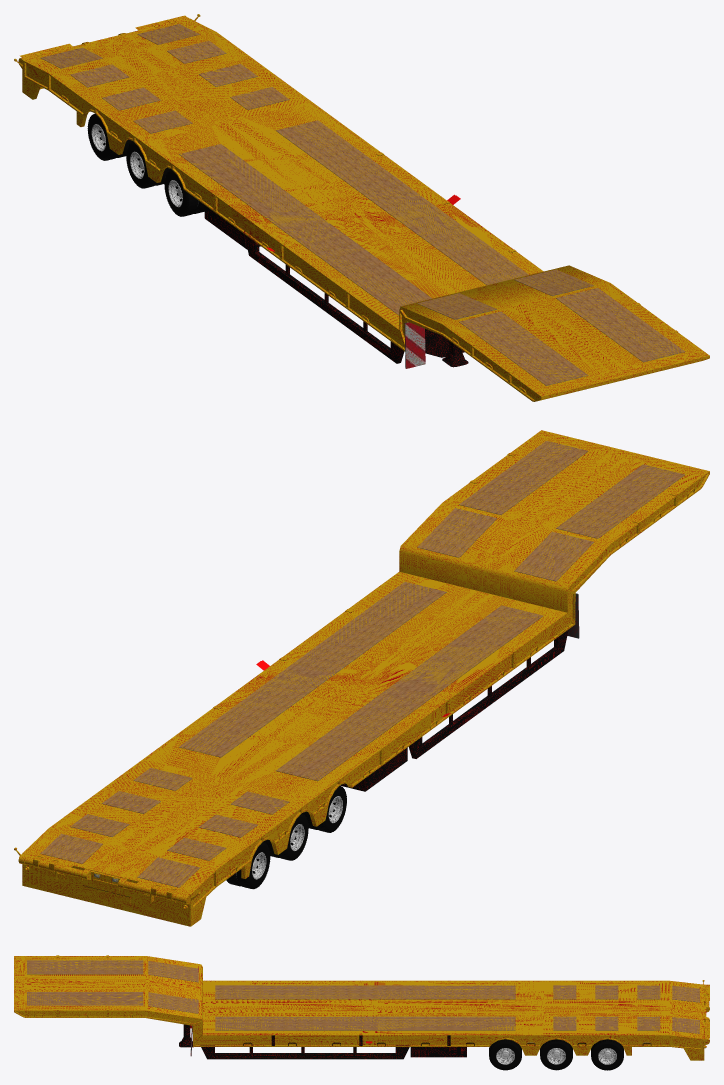
The model's file is TRUCK-trailer.dae.
3 renders of one model, top to bottom at view 1: azimuth 30°, elevation 25°; view 2: azimuth 150°, elevation 25°; view 3: azimuth 270°, elevation 25°, orthographic. The views are drawn at different scales.
Visible parts, largest first — view 1: group_0 (×2), Componente_10 (×14), Componente_5; view 2: group_0 (×2), Componente_10 (×8); view 3: group_0 (×3), Componente_10 (×16), ____DUMMY_11 (×3), ____DUMMY_16.
Part boxes in pixels (bbox=[...]): group_0 (×2): bbox=[22, 18, 709, 401]; Componente_10 (×14): bbox=[41, 24, 684, 385]; Componente_5: bbox=[405, 322, 425, 368]; group_0 (×2): bbox=[22, 430, 709, 926]; Componente_10 (×8): bbox=[40, 440, 684, 887]; group_0 (×3): bbox=[14, 956, 704, 1060]; Componente_10 (×16): bbox=[27, 960, 699, 1033]; ____DUMMY_11 (×3): bbox=[491, 1043, 621, 1069]; ____DUMMY_16: bbox=[547, 1048, 565, 1064].
Bounding box in the file's own units: 125 × 588 × 56.73.
22 materials, 14 textured.
